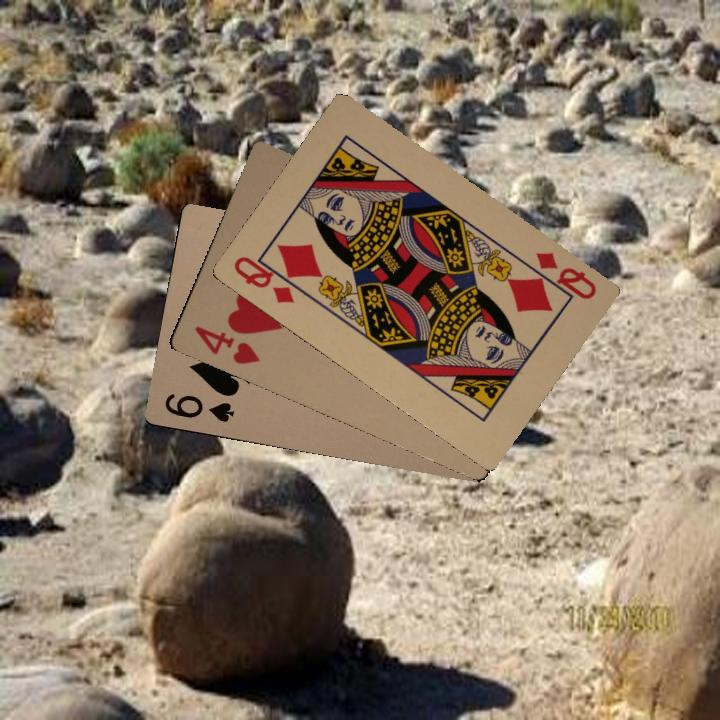4h: (190, 321, 262, 367)
6s: (160, 389, 237, 425)
Qd: (523, 247, 600, 305), (229, 252, 309, 306)
